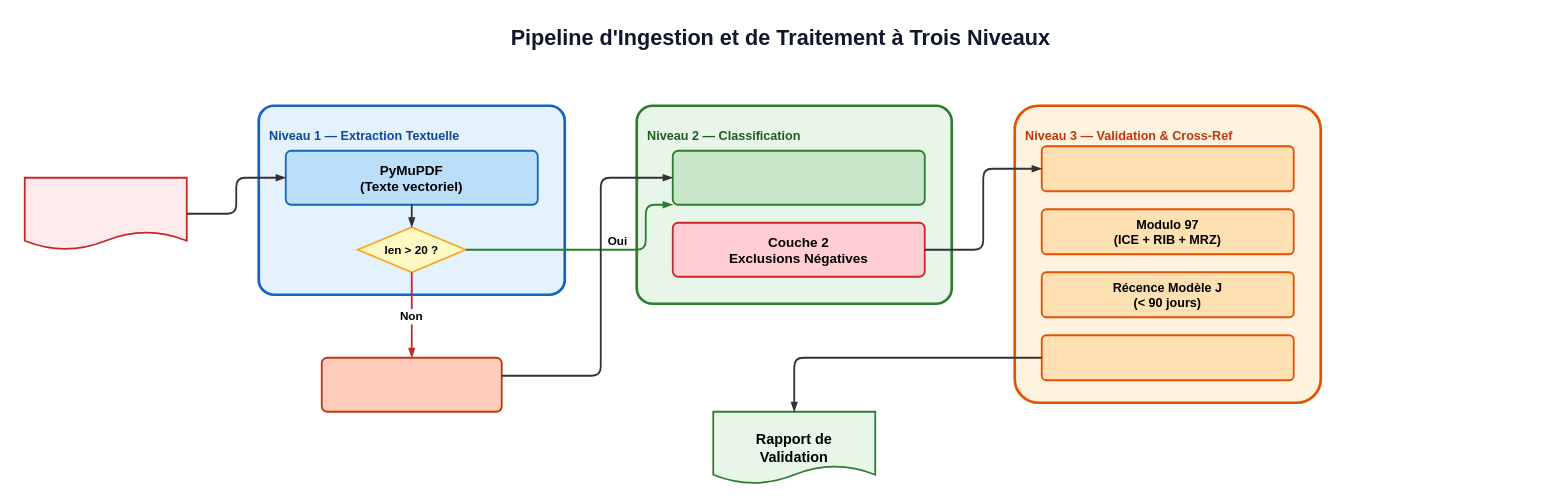
Some shapes in this 1561 by 500 pixel diagram are drawn without their labels. Each missing label, with the centre of its shape:
"Couche 1 Ancres Positives" goes at (x=798, y=177).
"Extracteur Dédié (7 parsers regex)" goes at (x=1167, y=168).
"Fichier PDF (Opérateur)" goes at (x=105, y=213).
"Matrice Cross-Ref (7 variables × N docs)" goes at (x=1167, y=357).
"Tesseract OCR (Repli Tier 2)" goes at (x=411, y=384).
